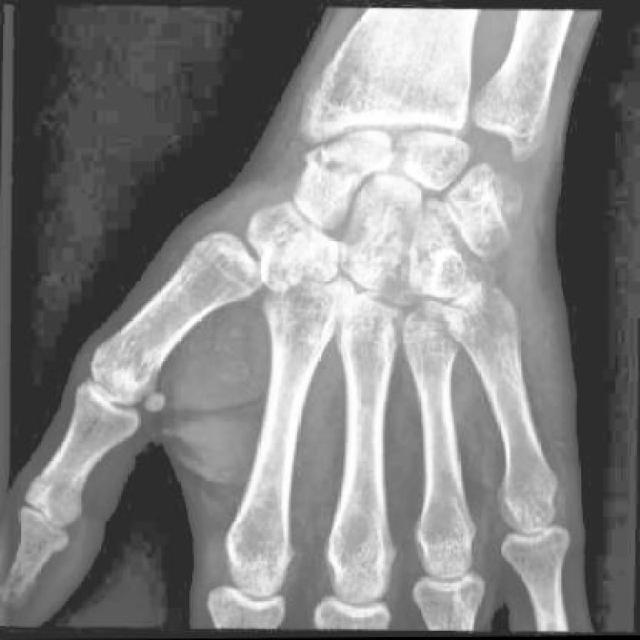Fracture: (305, 145, 365, 190)
